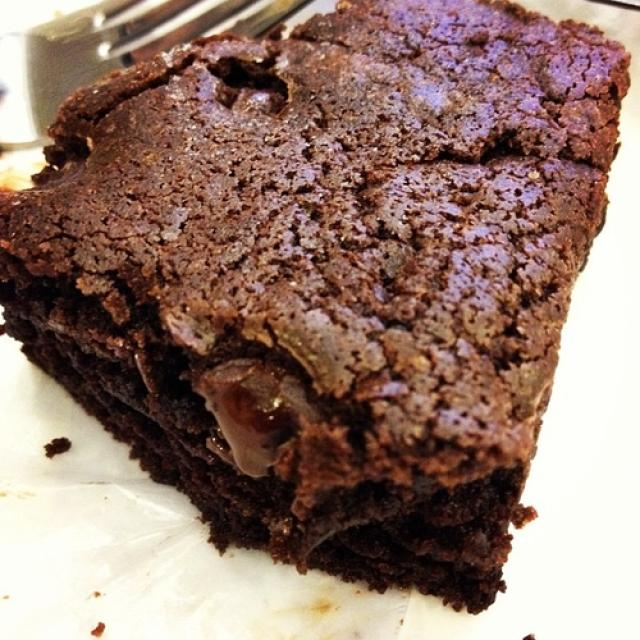蛋糕甜品: (23, 13, 616, 604)
